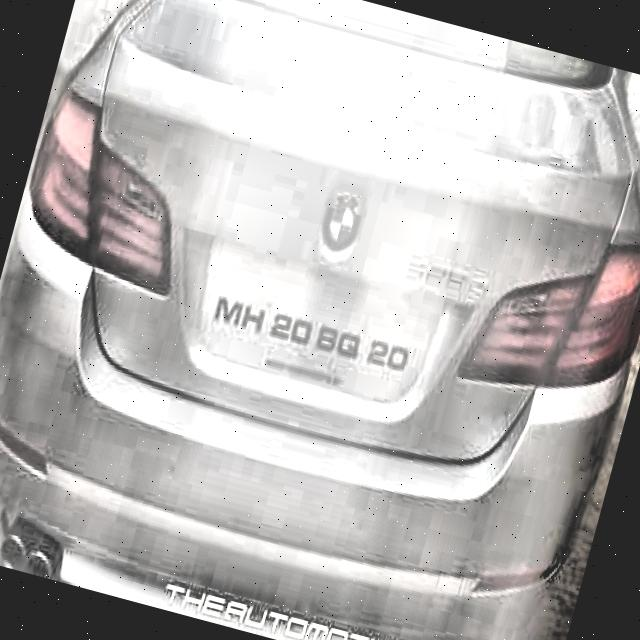license_plate: (185, 244, 432, 415)
